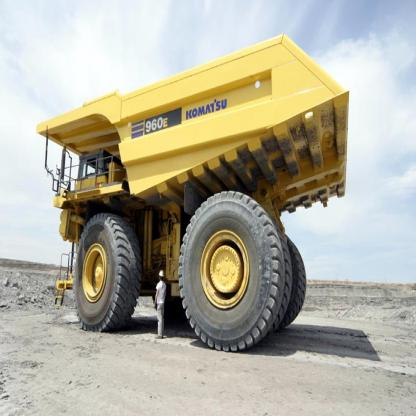dump_truck: (36, 30, 351, 352)
person: (154, 266, 169, 340)
